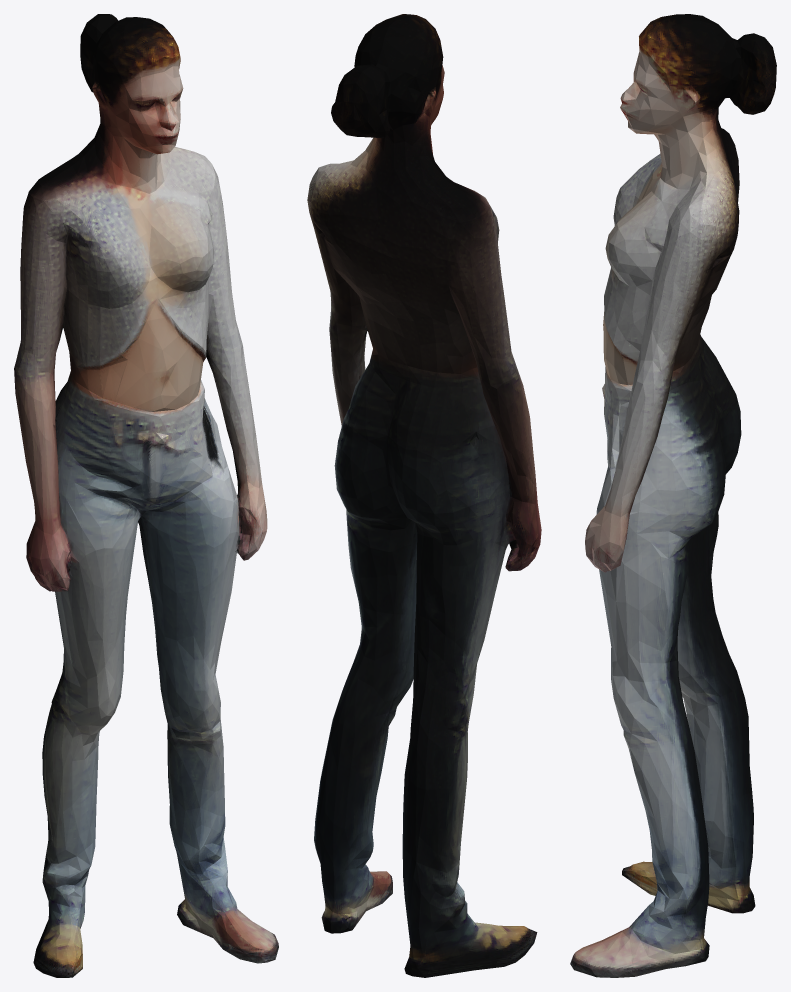
File: tony_stark.glb
The picture shows the model from 3 angles, left to right: view 1: azimuth 30°, elevation 25°; view 2: azimuth 150°, elevation 25°; view 3: azimuth 270°, elevation 25°; orthographic projection.
Parts seen in each view (by area): view 1: world; view 2: world; view 3: world.
Boxes of the visible parts, <box> form: world: <box>14,14,278,977</box>; world: <box>307,14,541,977</box>; world: <box>570,14,776,977</box>.
Bounding box in the file's own units: 0.253 × 0.9999 × 0.205.
1 material, 1 textured.
